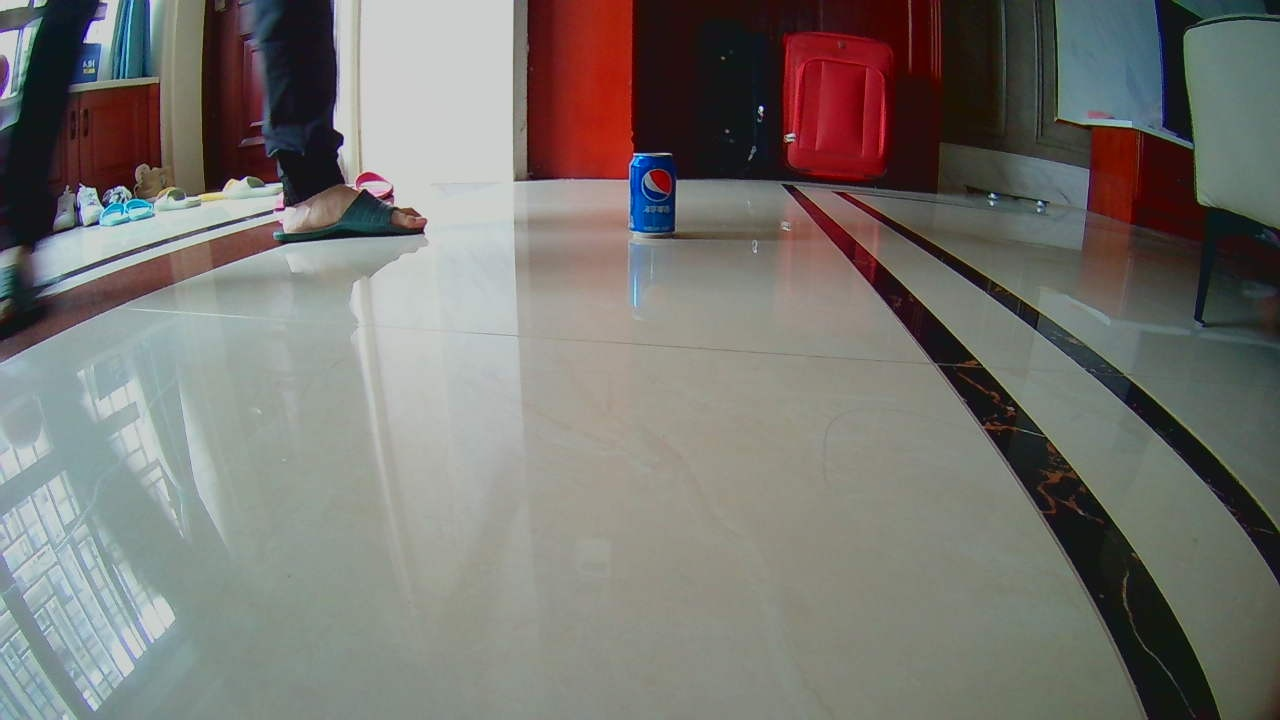pessi: (633, 154, 682, 236)
